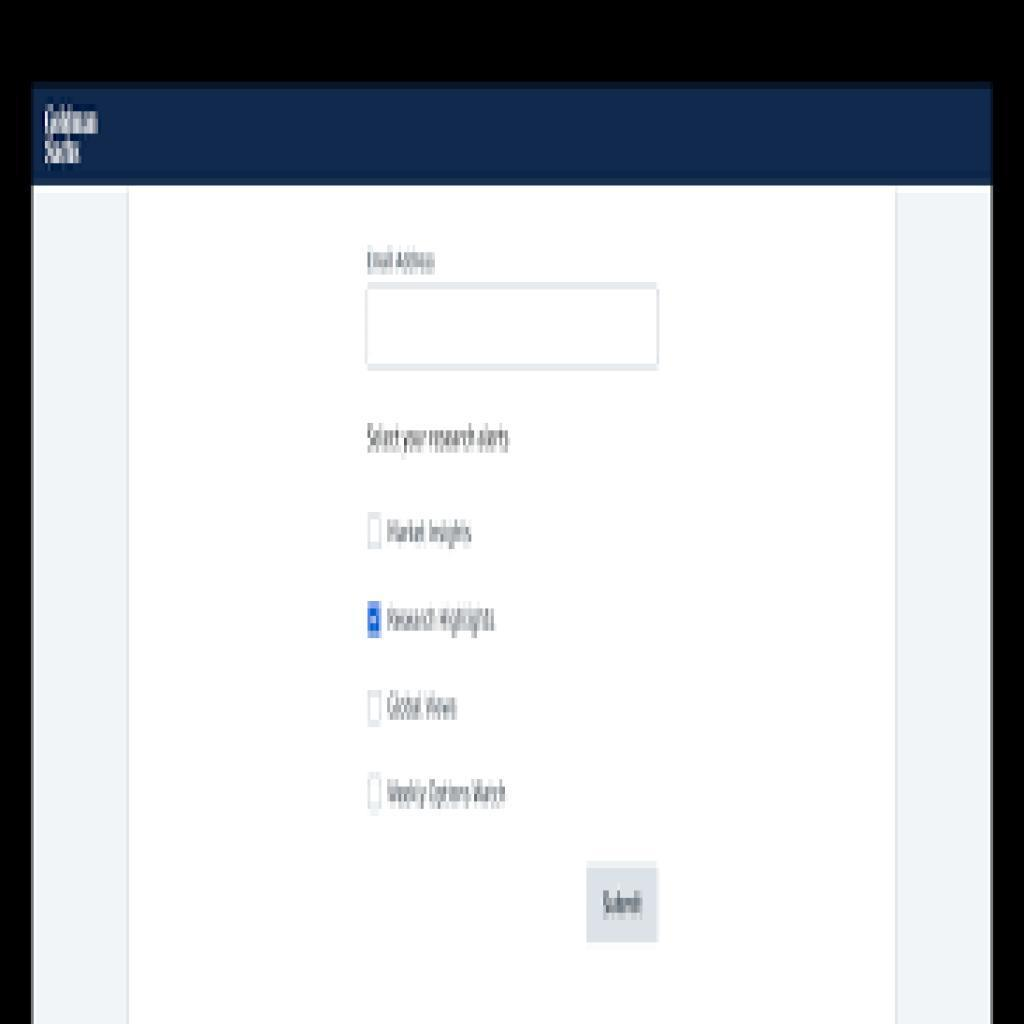button: (585, 861, 660, 942)
checkbox: (367, 509, 385, 551), (367, 600, 382, 640), (368, 692, 383, 726), (370, 777, 384, 812)
input: (365, 281, 660, 369)
label: (387, 777, 513, 813), (385, 604, 495, 637), (390, 515, 476, 549), (387, 688, 462, 724), (364, 247, 439, 280)
